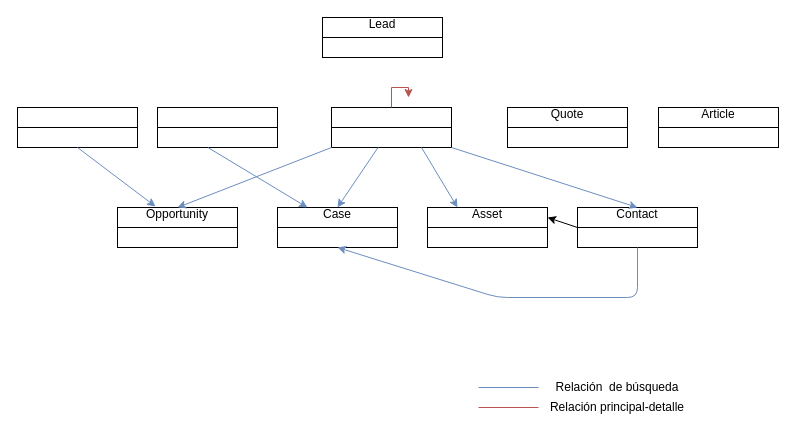
Some shapes in this 797 by 435 pixel diagram are drawn without their labels. The centre of each missing label's shape, as x and y in pixels:
Account: the point at 391,127
PriceBook: the point at 77,127
Product: the point at 217,127
